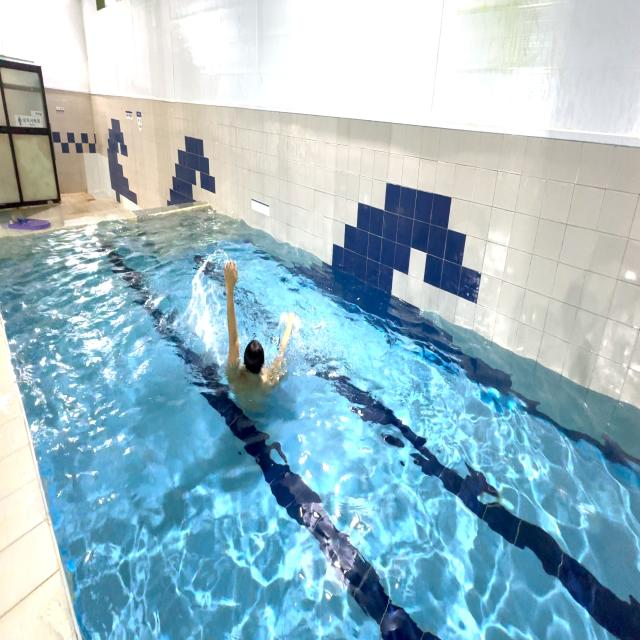Drowning: (219, 251, 299, 396)
